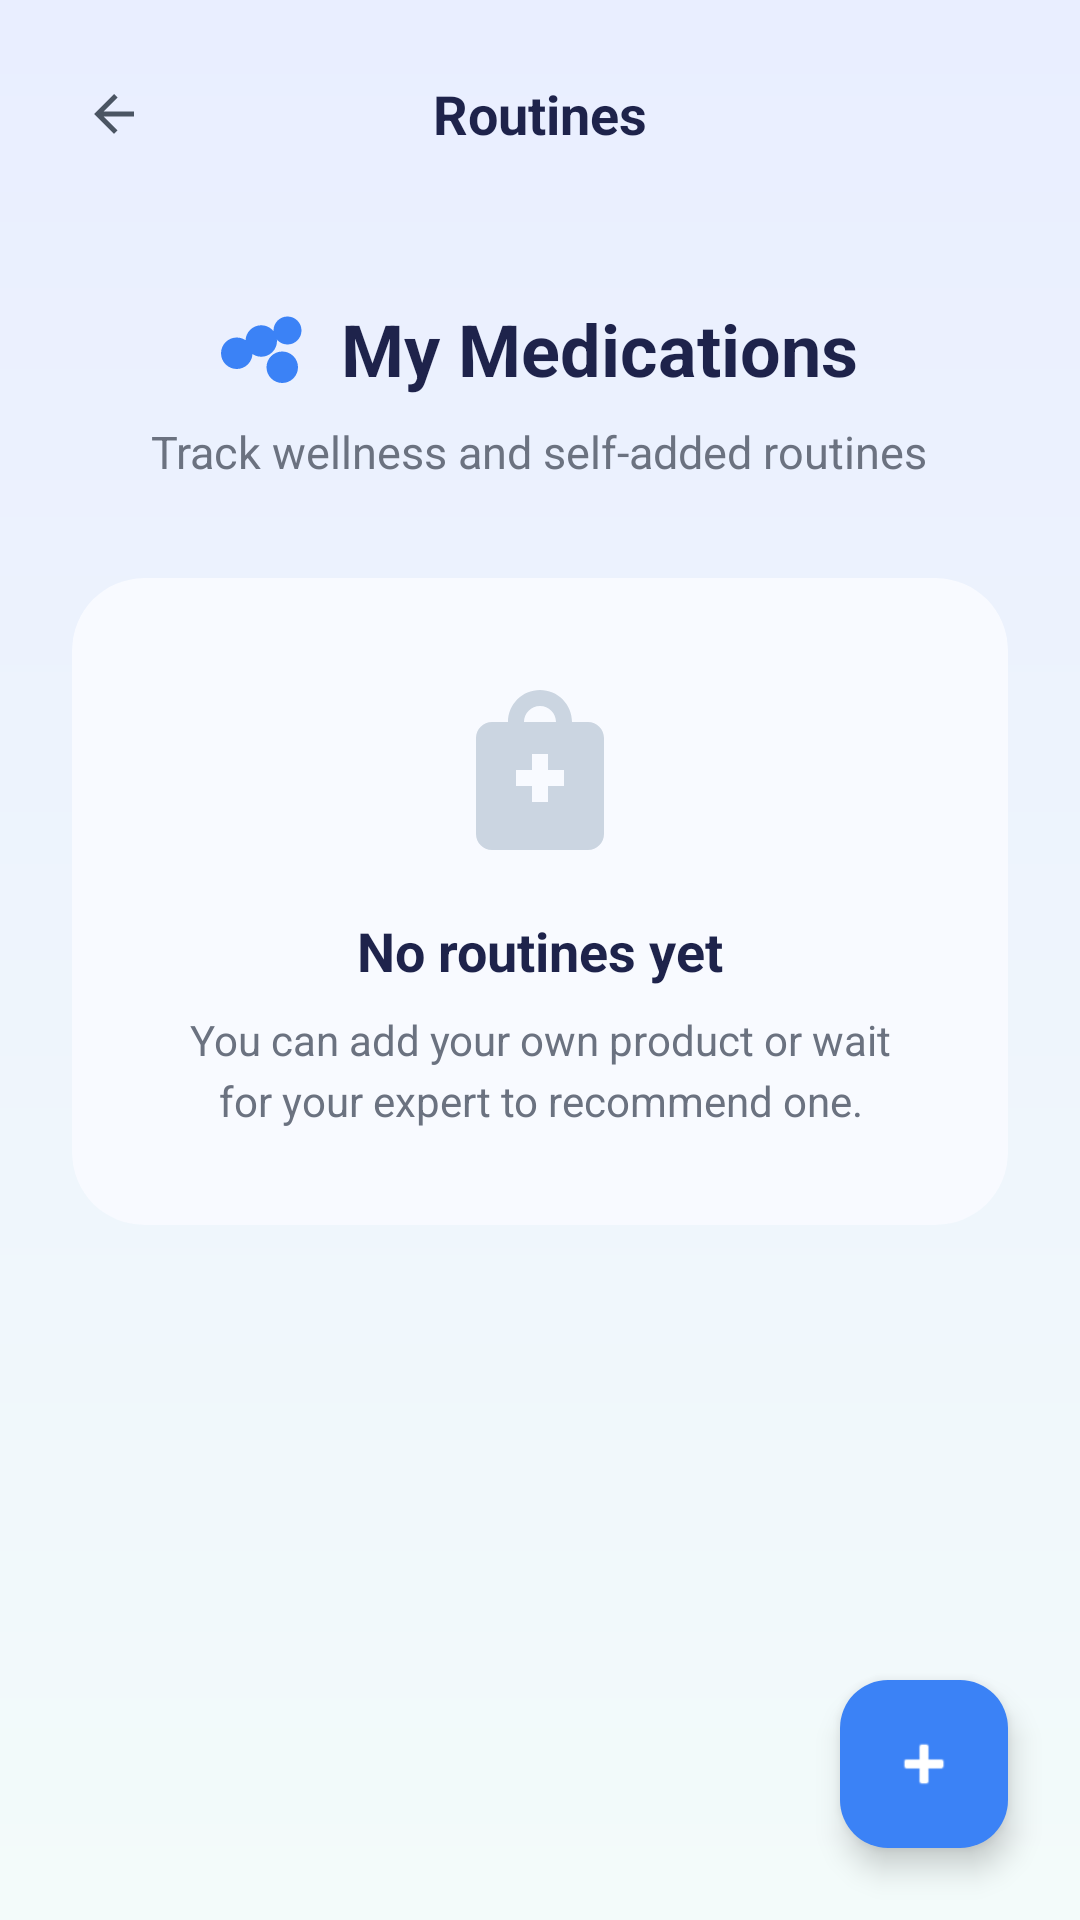

Icons on this 1080*1920 Android screen, each with its box as [x1=x1, y1=y1, x2=x2, y2=y2]:
add: [x1=840, y1=1680, x2=1008, y2=1848]
back: [x1=94, y1=94, x2=134, y2=134]
med kit: [x1=476, y1=690, x2=604, y2=850]
